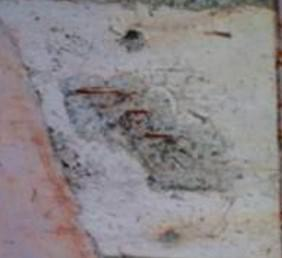Exposed reinforcement: (74, 89, 136, 98), (143, 132, 174, 139), (125, 109, 148, 115)
Spalling: (58, 71, 245, 193), (113, 29, 147, 55)
